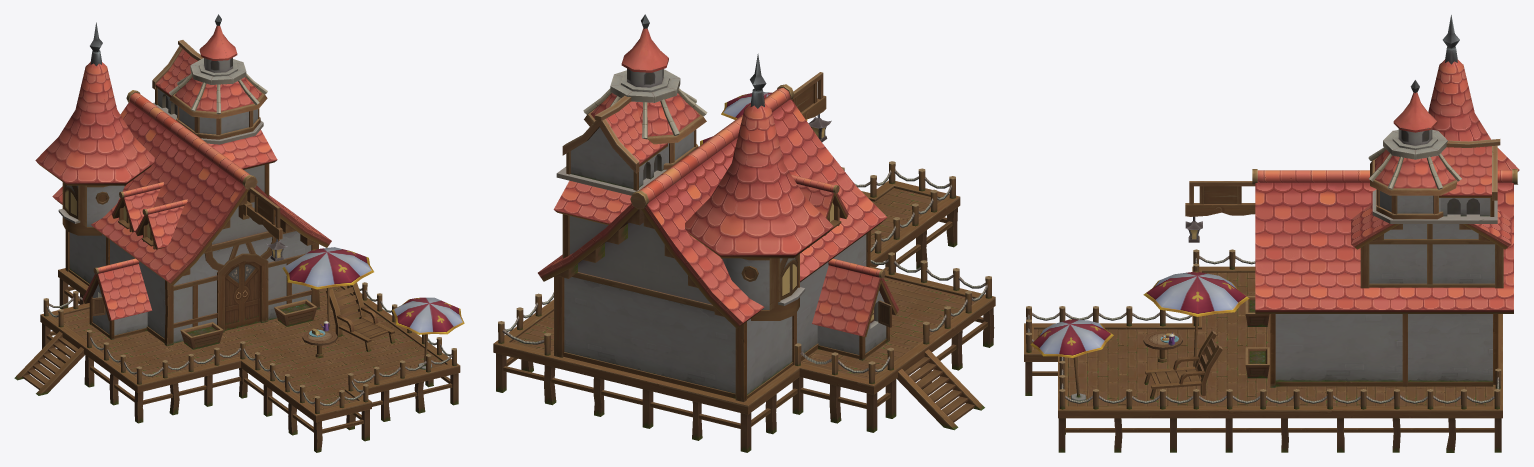
The model's file is scene_lawennushandao_building01.FBX.
3 views of the same model, side by side, from view 1: azimuth 30°, elevation 25°; view 2: azimuth 150°, elevation 25°; view 3: azimuth 270°, elevation 25° (orthographic). The views are drawn at different scales.
Visible parts, largest first — view 1: scene_lawennushandao_building01; view 2: scene_lawennushandao_building01; view 3: scene_lawennushandao_building01.
Boxes of the visible parts, x1,y1,x2,y2 form: scene_lawennushandao_building01: (14,14,464,452); scene_lawennushandao_building01: (493,14,995,452); scene_lawennushandao_building01: (1024,15,1519,452).
Bounding box in the file's own units: 1169 × 1064 × 1421.
